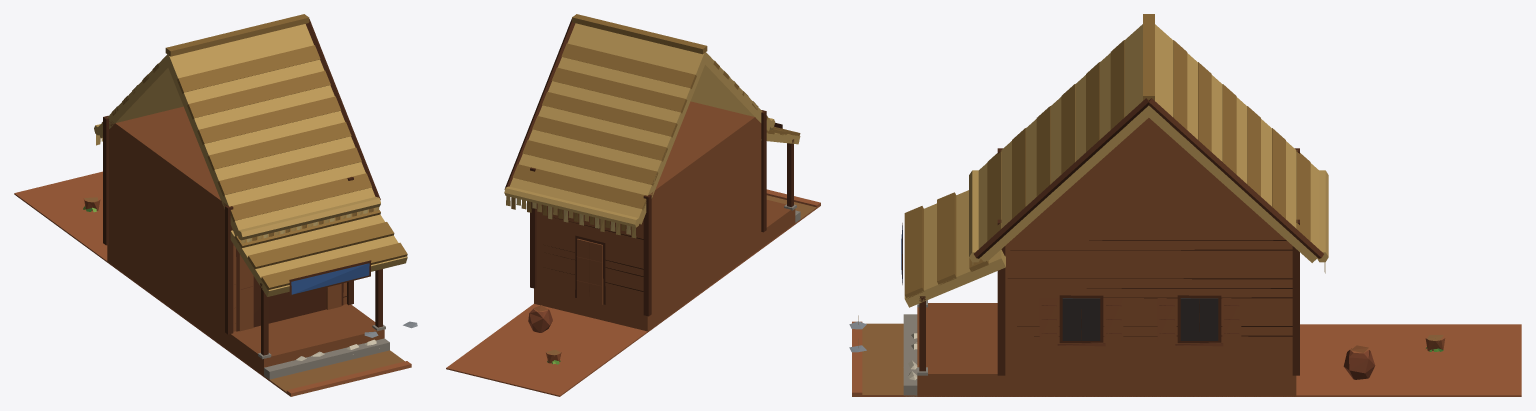
The model's file is bay2_right.glb.
3 renders of one model, left to right at view 1: azimuth 30°, elevation 25°; view 2: azimuth 150°, elevation 25°; view 3: azimuth 270°, elevation 25°, orthographic. The views are drawn at different scales.
Parts seen in each view (by area): view 1: body; view 2: body; view 3: body, windows.
Boxes of the visible parts, left/top/right/bottom form: body: left=14, top=14, right=417, bottom=396; body: left=446, top=14, right=820, bottom=396; body: left=849, top=14, right=1521, bottom=396; windows: left=1062, top=298, right=1218, bottom=340.
Bounding box in the file's own units: 4.78 × 8.46 × 15.96.
